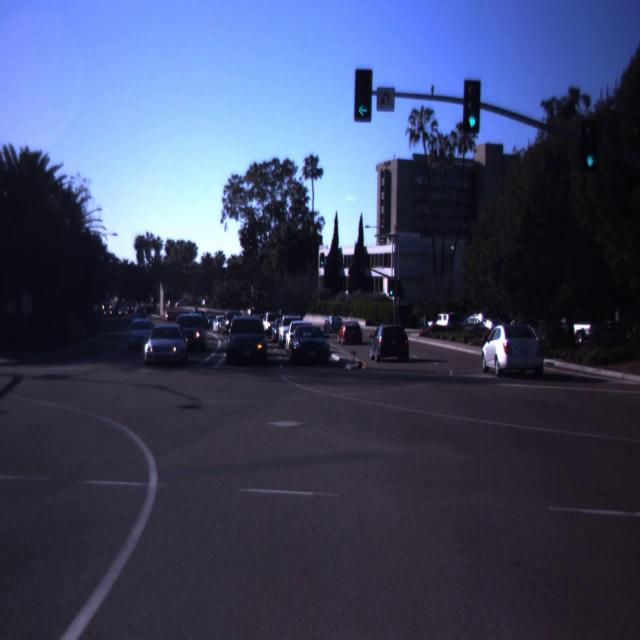yesil: (356, 69, 372, 123), (581, 118, 597, 172), (464, 80, 479, 134)
